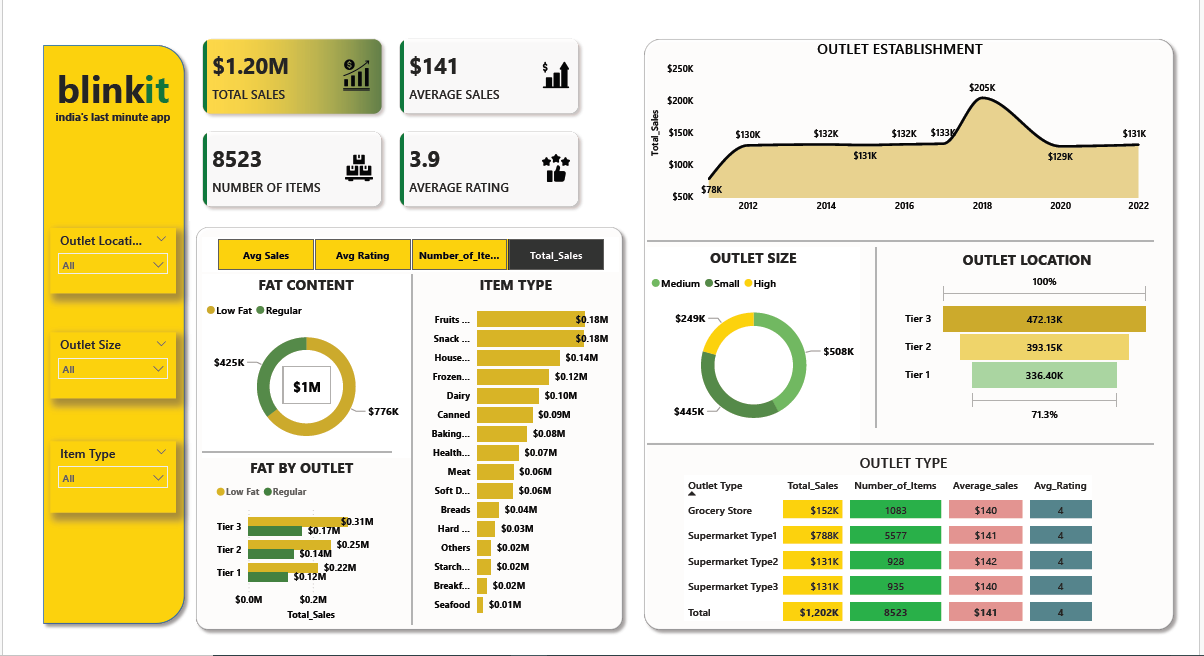

Layout of this report page (visuals, bound fields, positions):
{"tool":"powerbi","page":{"name":"Page 1","canvas":[1500,800],"ordinal":0},"visuals":[{"type":"shape","box":[20,25,200,766.7],"z":0},{"type":"textbox","box":[40.8,51.8,177.3,83.1],"z":1000},{"type":"textbox","box":[39.2,112.9,169.4,43.9],"z":2000},{"type":"cardVisual","fields":{"Data":["BlinkIT Grocery Data.Total_Sales","BlinkIT Grocery Data.Average_sales","BlinkIT Grocery Data.Number_of_Items","BlinkIT Grocery Data.Avg_Rating"]},"box":[217.7,9.7,521,251.6],"z":3000},{"type":"shape","box":[217.7,261.3,569.4,538.7],"z":4000},{"type":"donutChart","title":"FAT CONTENT","fields":{"Y":["BlinkIT Grocery Data.Total_Sales"],"Category":["BlinkIT Grocery Data.Item Fat Content"]},"box":[233.9,332.3,269.4,235.5],"z":5000},{"type":"slicer","fields":{"Values":["Metrics.Metrics"]},"box":[233.9,283.9,538.7,43.5],"z":6000},{"type":"cardVisual","fields":{"Data":["BlinkIT Grocery Data.Total_Sales"]},"box":[332.5,450.2,72.2,54.9],"z":7000},{"type":"clusteredBarChart","title":"FAT BY OUTLET","fields":{"Y":["BlinkIT Grocery Data.Total_Sales"],"Category":["BlinkIT Grocery Data.Outlet Location Type"],"Series":["BlinkIT Grocery Data.Item Fat Content"]},"box":[246.8,567.7,232.3,216.1],"z":8000},{"type":"shape","box":[233.9,554.8,245.2,12.9],"z":9000},{"type":"shape","box":[501.6,332.3,6.5,451.6],"z":10000},{"type":"barChart","title":"ITEM TYPE","fields":{"Y":["BlinkIT Grocery Data.Total_Sales"],"Category":["BlinkIT Grocery Data.Item Type"]},"box":[514.5,332.3,250,451.6],"z":11000},{"type":"shape","box":[798.4,17.7,701.6,782.3],"z":12000},{"type":"lineChart","title":"OUTLET ESTABLISHMENT","fields":{"Y":["BlinkIT Grocery Data.Total_Sales"],"Category":["BlinkIT Grocery Data.Outlet Establishment Year"]},"box":[809.7,25.8,654.8,235.5],"z":13000},{"type":"shape","box":[809.7,279.4,654.8,17.7],"z":14000},{"type":"donutChart","title":"OUTLET SIZE","fields":{"Y":["BlinkIT Grocery Data.Total_Sales"],"Category":["BlinkIT Grocery Data.Outlet Size"]},"box":[809.7,297.2,275.8,250],"z":15000},{"type":"shape","box":[1100,297.2,12.9,232.3],"z":16000},{"type":"funnel","title":"OUTLET LOCATION","fields":{"Category":["BlinkIT Grocery Data.Outlet Location Type"],"Y":["Sum(BlinkIT Grocery Data.Sales)"]},"box":[1138.7,298.8,325.8,227.4],"z":17000},{"type":"shape","box":[809.7,541.9,654.8,17.7],"z":18000},{"type":"pivotTable","title":"OUTLET TYPE","fields":{"Rows":["BlinkIT Grocery Data.Outlet Type"],"Values":["BlinkIT Grocery Data.Total_Sales","BlinkIT Grocery Data.Number_of_Items","BlinkIT Grocery Data.Average_sales","BlinkIT Grocery Data.Avg_Rating"]},"box":[853.3,561.6,577.3,222.7],"z":19000},{"type":"slicer","fields":{"Values":["BlinkIT Grocery Data.Outlet Location Type"]},"box":[37.1,271,162.9,85.5],"z":20000},{"type":"slicer","fields":{"Values":["BlinkIT Grocery Data.Outlet Size"]},"box":[37.1,406.5,162.9,85.5],"z":21000},{"type":"slicer","fields":{"Values":["BlinkIT Grocery Data.Item Type"]},"box":[37.1,546.8,162.9,93.5],"z":22000}]}

Visuals, with their boxes in screenshot pixels (x1, y1, x2, y2), scaled from the page's 1500x800 canvas onto the 1204x656 screenshot:
shape: <region>16, 20, 177, 649</region>
textbox: <region>33, 42, 175, 111</region>
textbox: <region>31, 93, 167, 129</region>
cardVisual - BlinkIT Grocery Data.Total_Sales x BlinkIT Grocery Data.Average_sales: <region>175, 8, 593, 214</region>
shape: <region>175, 214, 632, 655</region>
"FAT CONTENT" donutChart: <region>188, 272, 404, 466</region>
slicer - Metrics.Metrics: <region>188, 233, 620, 268</region>
cardVisual - BlinkIT Grocery Data.Total_Sales: <region>267, 369, 325, 414</region>
"FAT BY OUTLET" clusteredBarChart: <region>198, 466, 385, 643</region>
shape: <region>188, 455, 385, 466</region>
shape: <region>403, 272, 408, 643</region>
"ITEM TYPE" barChart: <region>413, 272, 614, 643</region>
shape: <region>641, 15, 1203, 655</region>
"OUTLET ESTABLISHMENT" lineChart: <region>650, 21, 1176, 214</region>
shape: <region>650, 229, 1176, 244</region>
"OUTLET SIZE" donutChart: <region>650, 244, 871, 449</region>
shape: <region>883, 244, 893, 434</region>
"OUTLET LOCATION" funnel: <region>914, 245, 1176, 431</region>
shape: <region>650, 444, 1176, 459</region>
"OUTLET TYPE" pivotTable: <region>685, 461, 1148, 643</region>
slicer - BlinkIT Grocery Data.Outlet Location Type: <region>30, 222, 161, 292</region>
slicer - BlinkIT Grocery Data.Outlet Size: <region>30, 333, 161, 403</region>
slicer - BlinkIT Grocery Data.Item Type: <region>30, 448, 161, 525</region>
